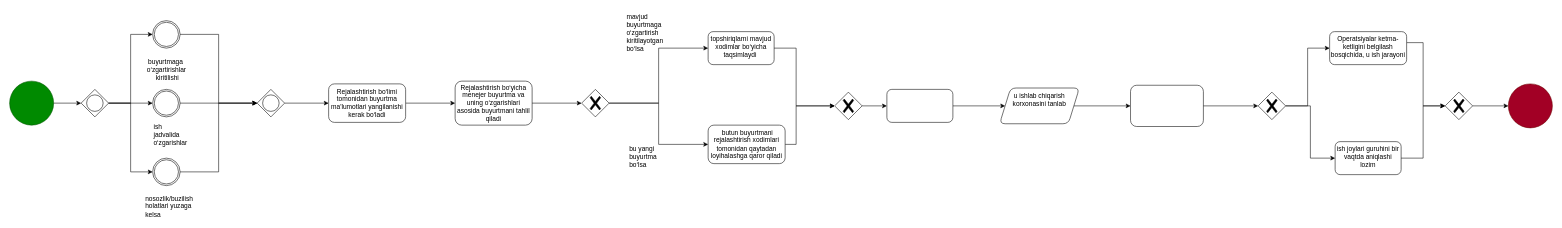
This 1562x228 diagram has some shape labels left out. Each missing label, with the box of its shape:
End: (1508, 83, 1552, 128)
ish jadvalini tanlashi kerak: (886, 89, 953, 122)
Start: (9, 81, 54, 125)
texnologik operatsiyalar ketma-ketligini belgilaydi (ish jarayoniga asoslanib): (1130, 85, 1203, 127)
